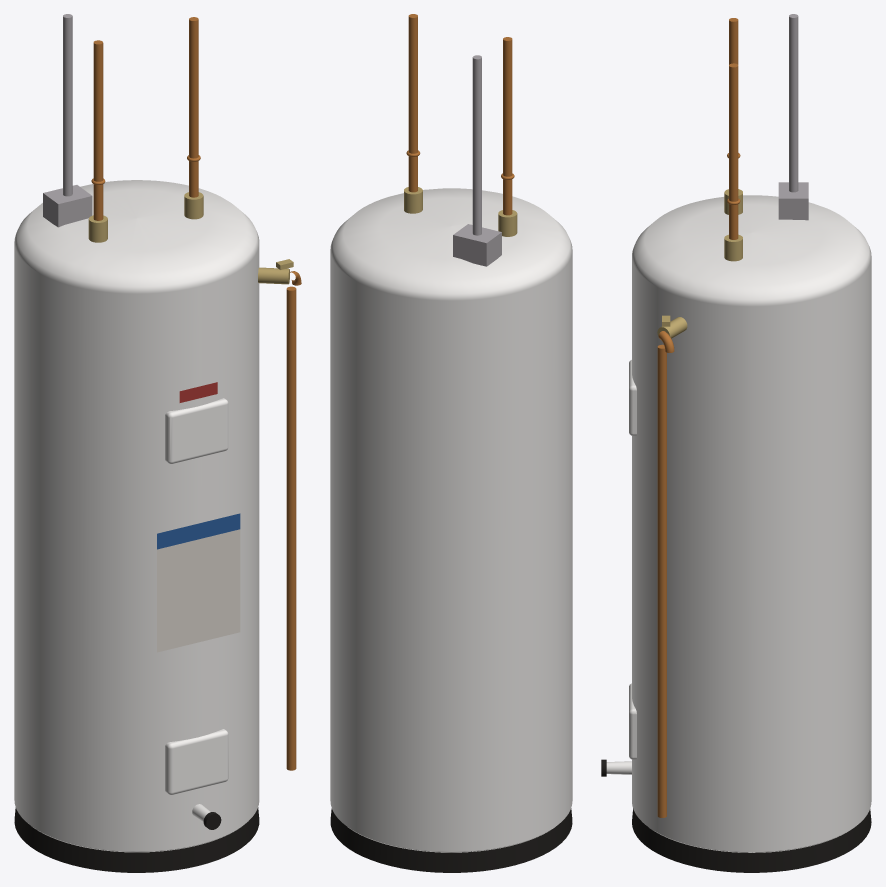
File: chauffe_eau.glb
The picture shows the model from 3 angles, left to right: view 1: azimuth 30°, elevation 25°; view 2: azimuth 150°, elevation 25°; view 3: azimuth 270°, elevation 25°; orthographic projection. The views are drawn at different scales.
Visible parts, largest first — view 1: socle; view 2: socle; view 3: socle.
Boxes of the visible parts, x1,y1,x2,y2 form: socle: [14, 14, 301, 872]; socle: [330, 14, 572, 872]; socle: [601, 14, 871, 872].
Size of the model in its own units: 0.6025 by 2.02 by 0.6311.
1 material, 1 textured.
